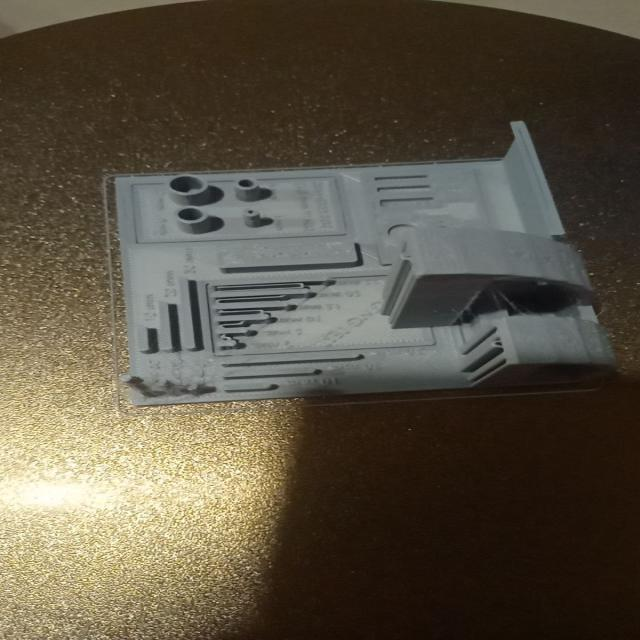Without deffect: (94, 116, 636, 412)
